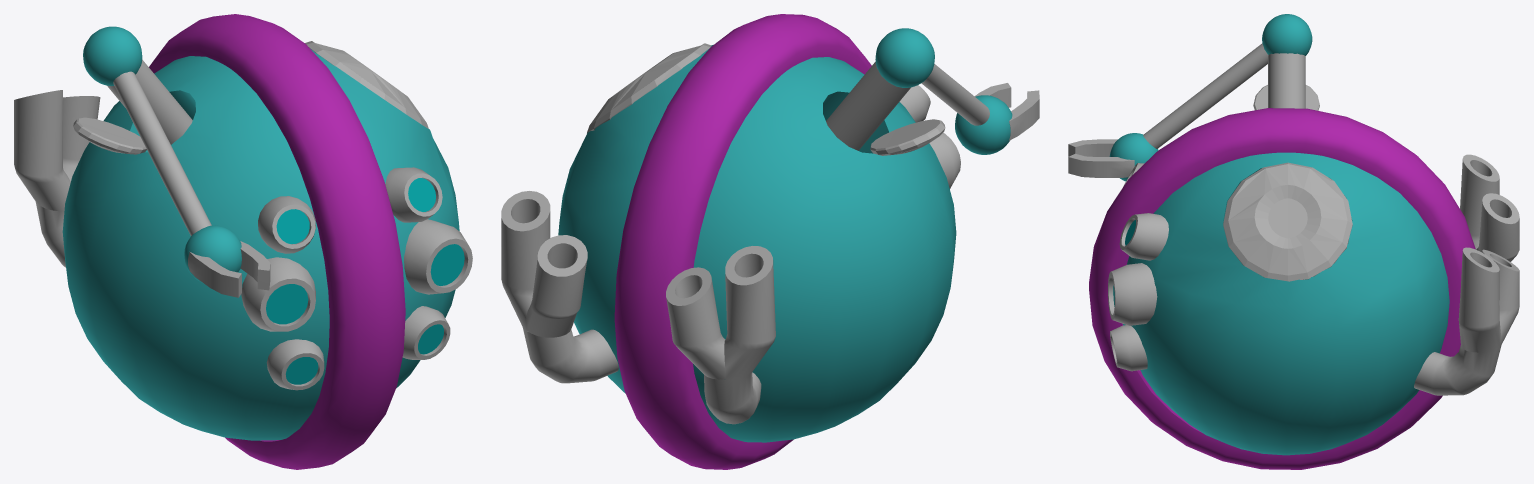
File: player model.fbx
3 views of the same model, side by side, from view 1: azimuth 30°, elevation 25°; view 2: azimuth 150°, elevation 25°; view 3: azimuth 270°, elevation 25° (orthographic). The views are drawn at different scales.
Parts seen in each view (by area): view 1: polySurface37, pCylinder2, polySurface31, polySurface38, polySurface36, polySurface34, polySurface26, polySurface27, polySurface30, polySurface19, pCylinder5, polySurface28 (+1 smaller); view 2: polySurface37, pCylinder2, polySurface38, pCylinder5, polySurface27, polySurface19, polySurface28, polySurface26, polySurface20, polySurface30, polySurface31, polySurface36; view 3: polySurface37, pCylinder2, polySurface38, polySurface19, polySurface26, polySurface31, pCylinder5, polySurface30, polySurface36, polySurface27, polySurface34, polySurface28 (+1 smaller).
Part boxes in pixels (left/top/right/bottom): polySurface37: left=62, top=48, right=459, bottom=440; pCylinder2: left=149, top=14, right=405, bottom=469; polySurface31: left=241, top=219, right=472, bottom=331; polySurface38: left=14, top=90, right=100, bottom=267; polySurface36: left=258, top=167, right=442, bottom=253; polySurface34: left=266, top=306, right=450, bottom=390; polySurface26: left=113, top=71, right=211, bottom=235; polySurface27: left=83, top=26, right=142, bottom=86; polySurface30: left=188, top=241, right=270, bottom=297; polySurface19: left=305, top=41, right=428, bottom=128; pCylinder5: left=107, top=60, right=192, bottom=144; polySurface28: left=184, top=225, right=241, bottom=282; polySurface37: left=558, top=45, right=956, bottom=442; pCylinder2: left=614, top=14, right=871, bottom=469; polySurface38: left=501, top=191, right=775, bottom=424; pCylinder5: left=826, top=62, right=910, bottom=150; polySurface27: left=875, top=28, right=934, bottom=87; polySurface19: left=587, top=43, right=711, bottom=133; polySurface28: left=955, top=95, right=1012, bottom=154; polySurface26: left=921, top=64, right=989, bottom=125; polySurface20: left=870, top=119, right=945, bottom=155; polySurface30: left=974, top=83, right=1039, bottom=140; polySurface31: left=929, top=132, right=960, bottom=188; polySurface36: left=899, top=85, right=930, bottom=122; polySurface37: left=1123, top=152, right=1449, bottom=455; pCylinder2: left=1089, top=108, right=1475, bottom=469; polySurface38: left=1414, top=154, right=1519, bottom=395; polySurface19: left=1223, top=162, right=1352, bottom=281; polySurface26: left=1143, top=43, right=1268, bottom=148; polySurface31: left=1108, top=263, right=1157, bottom=325; pCylinder5: left=1268, top=53, right=1305, bottom=108; polySurface30: left=1068, top=139, right=1134, bottom=177; polySurface36: left=1119, top=163, right=1168, bottom=260; polySurface27: left=1262, top=14, right=1312, bottom=55; polySurface34: left=1110, top=325, right=1147, bottom=371; polySurface28: left=1109, top=133, right=1158, bottom=181.
Size of the model in its own units: 18.52 by 22.7 by 24.03.
